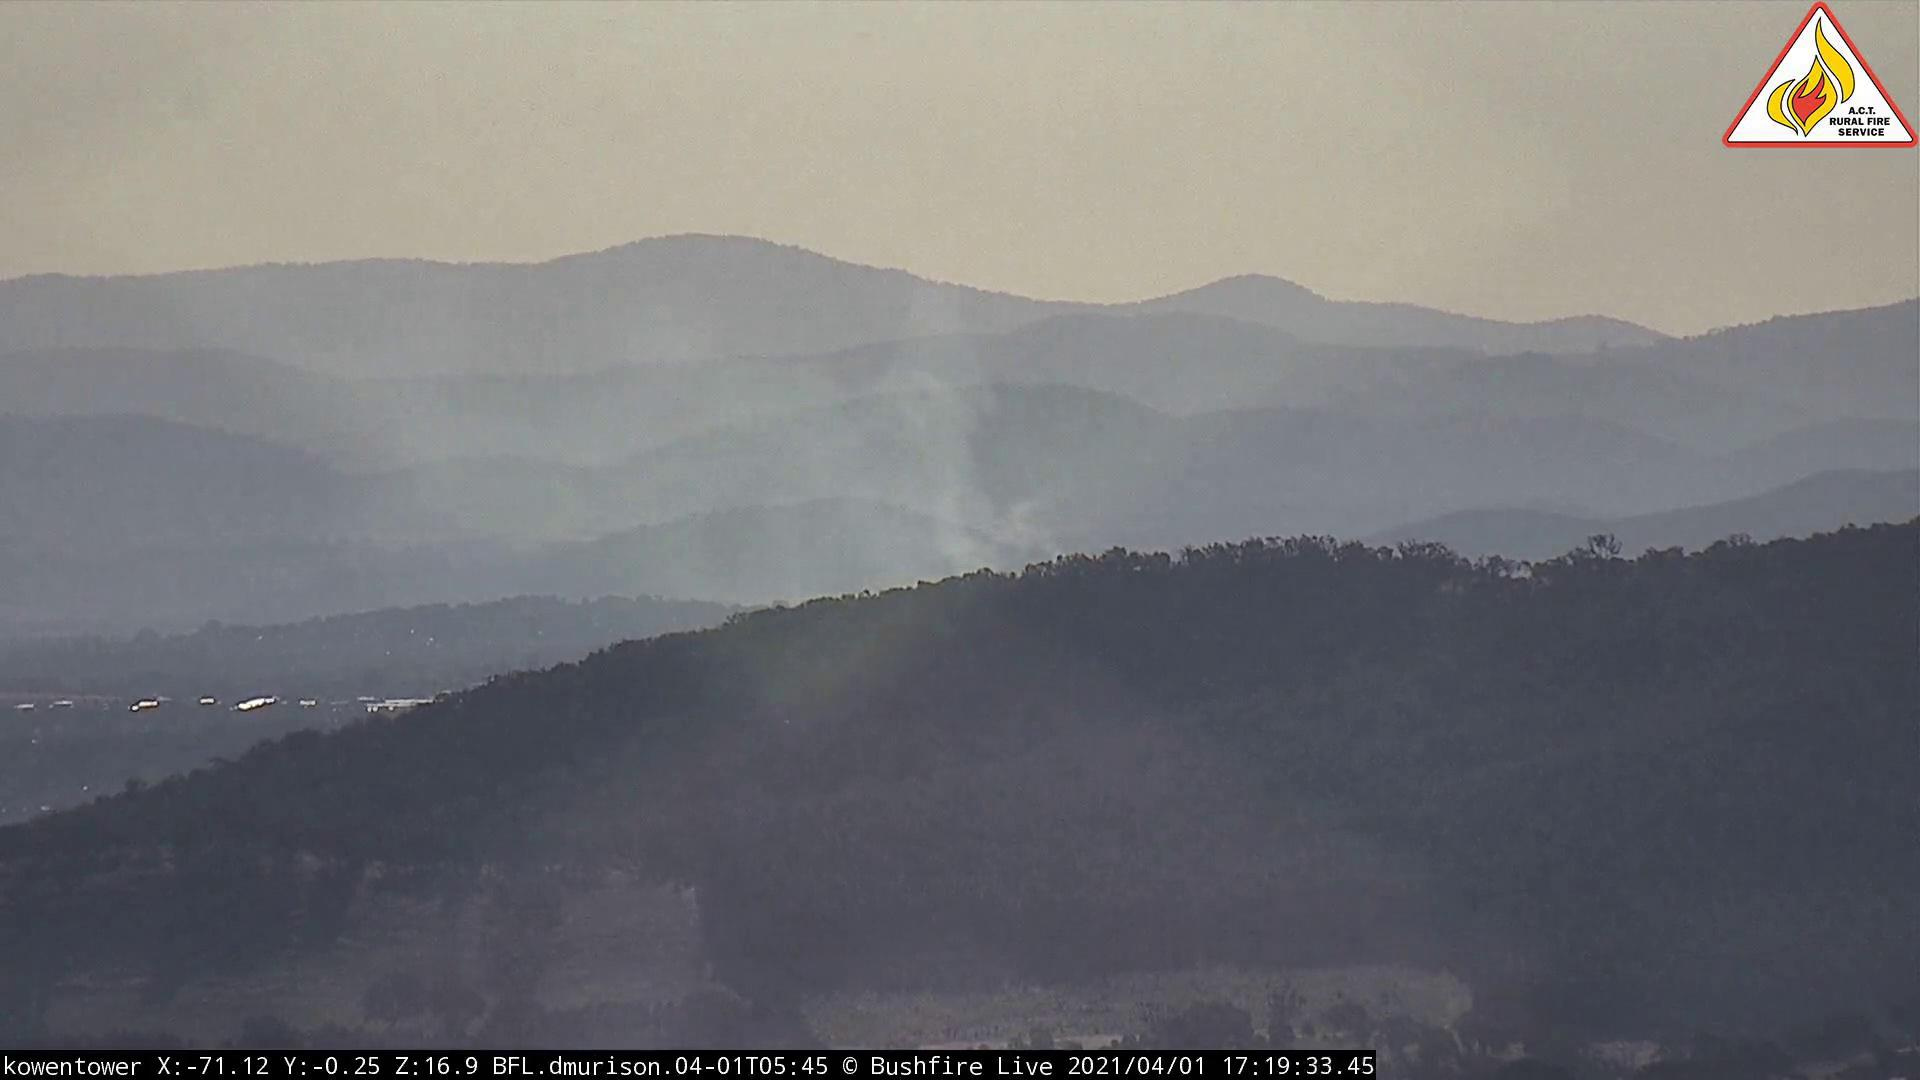instance_salient_object: (295, 284, 1055, 636)
